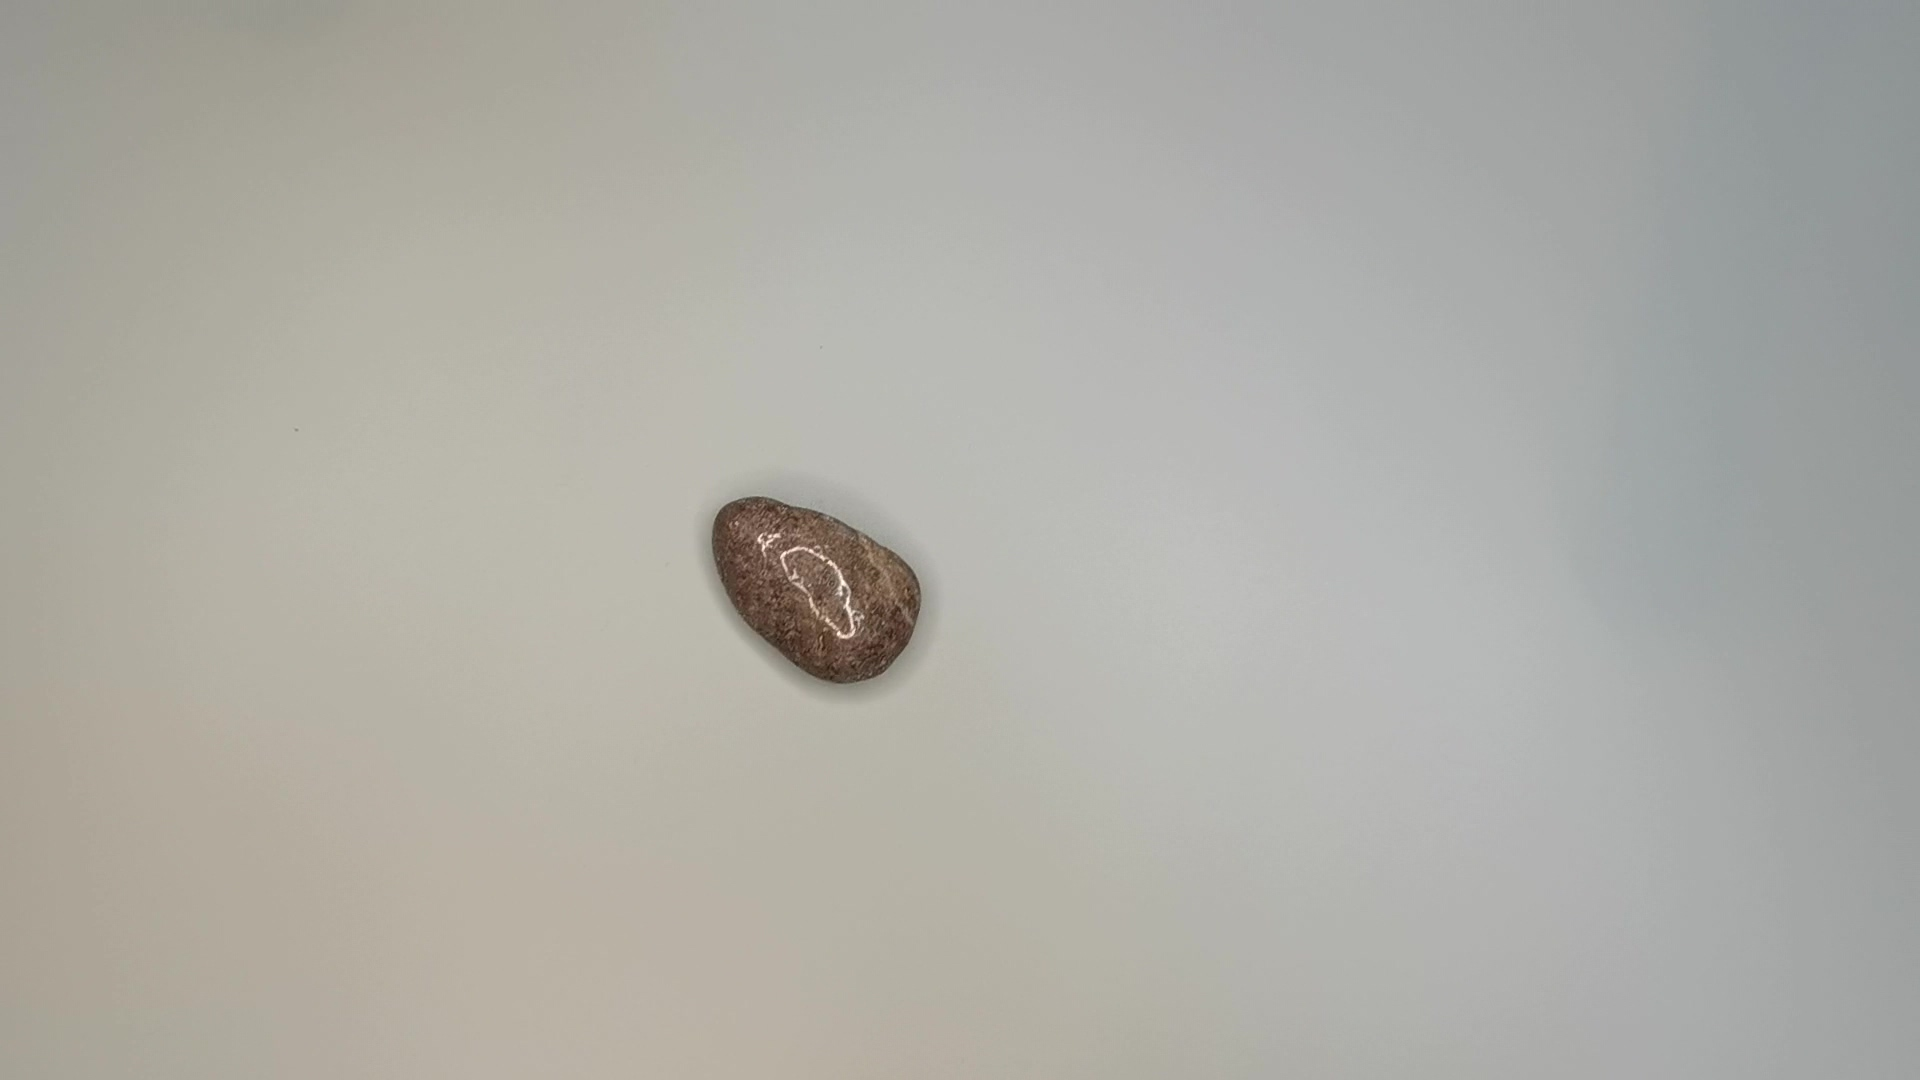ceramic: (708, 495, 926, 682)
